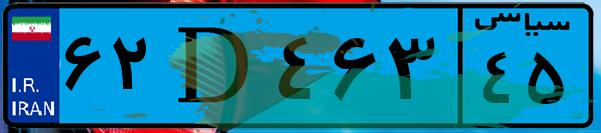2: (110, 28, 158, 98)
3: (385, 28, 445, 110)
4: (270, 28, 330, 110), (475, 38, 525, 113)
5: (525, 38, 570, 115)
6: (330, 28, 385, 110), (57, 26, 110, 100)
D: (158, 12, 270, 120)
